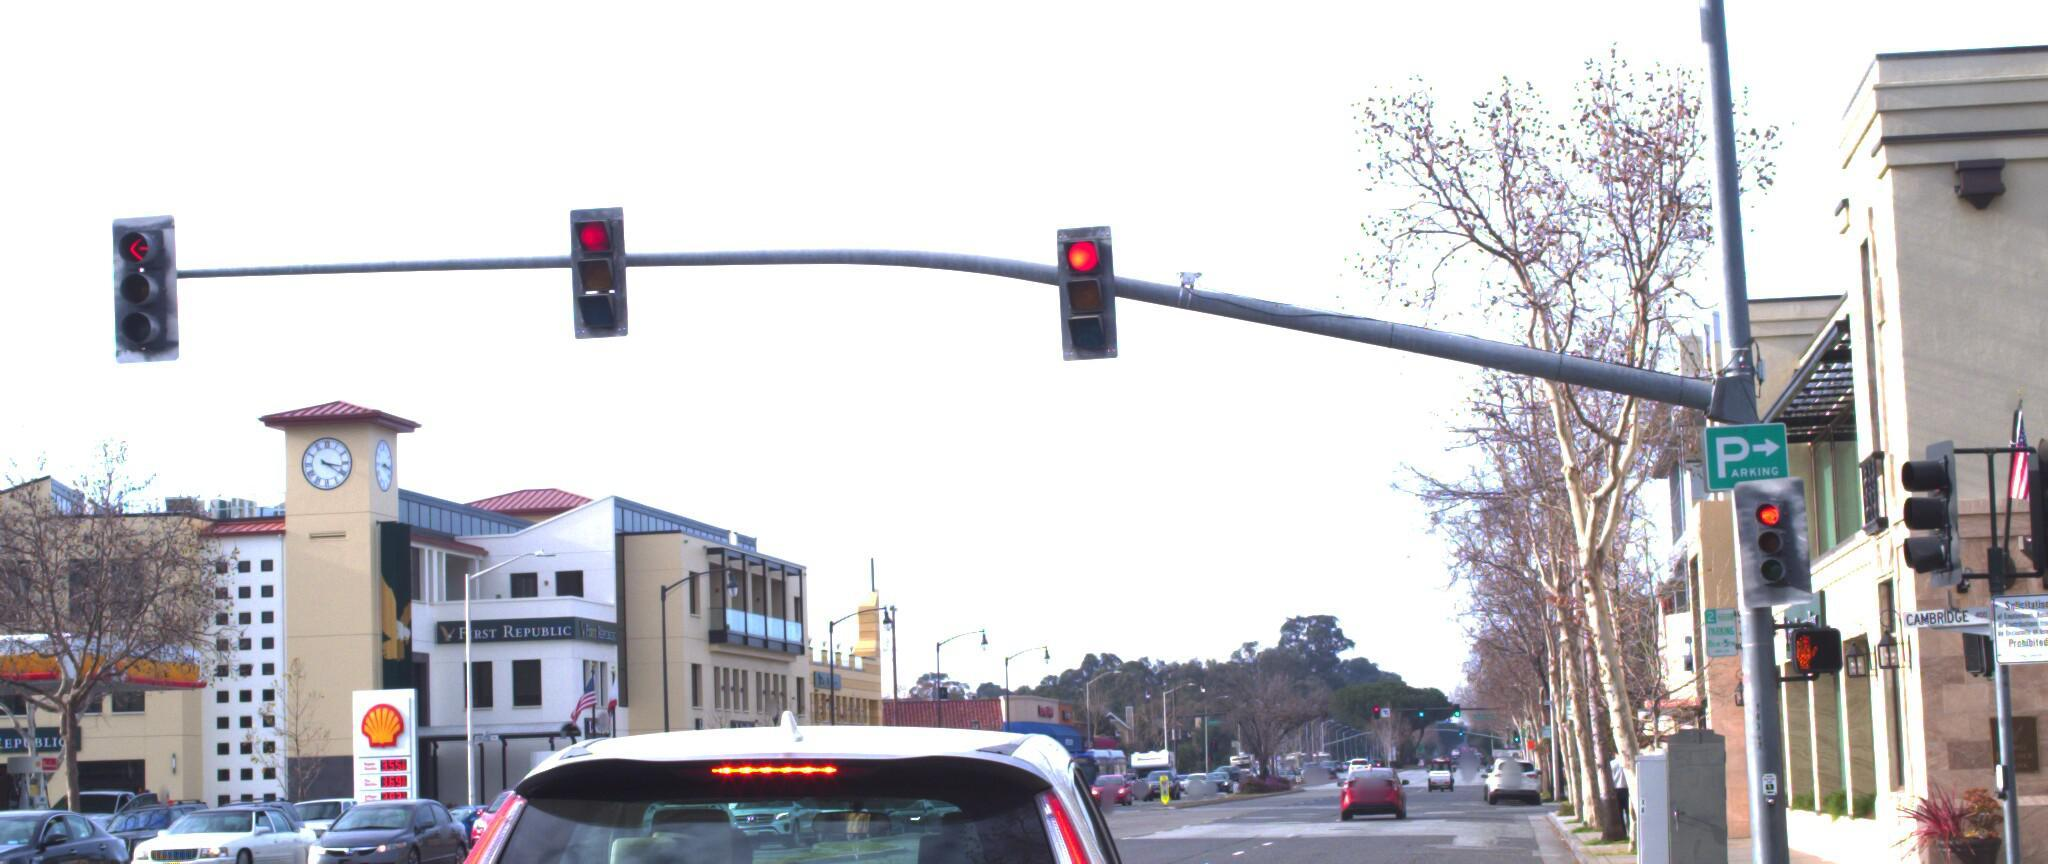car: (317, 696, 1237, 864), (101, 801, 310, 864), (286, 796, 460, 864), (445, 784, 590, 864), (0, 801, 118, 864), (0, 799, 9, 864)
truck: (603, 747, 741, 848)
